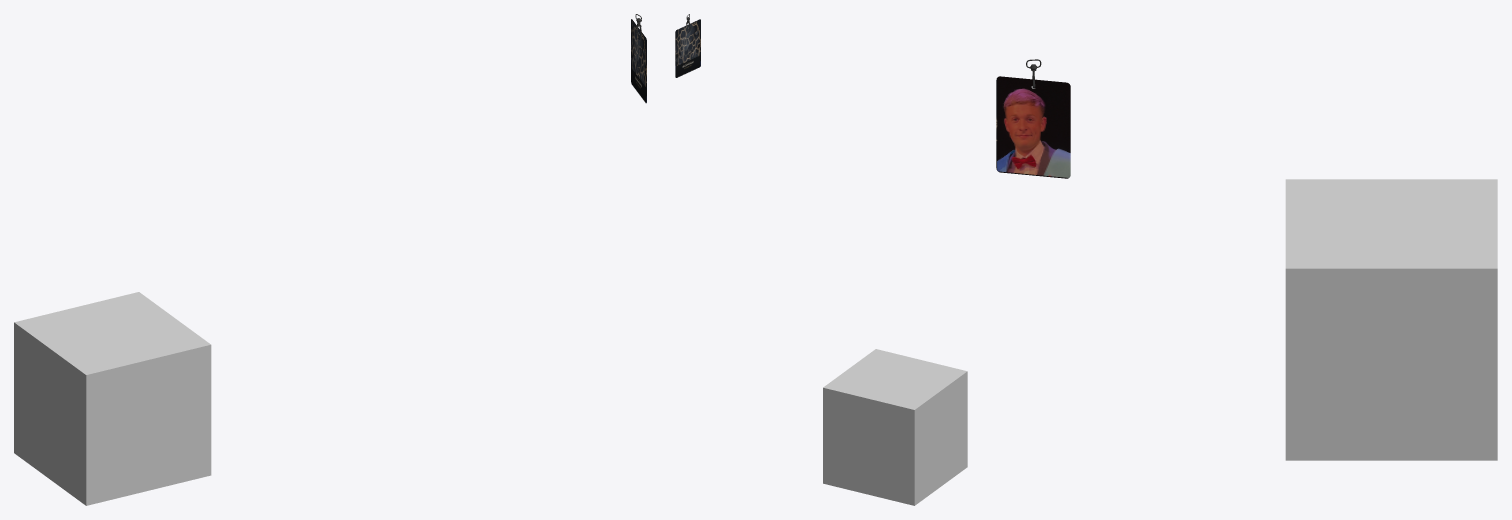
File: kartu.glb
3 renders of one model, left to right at view 1: azimuth 30°, elevation 25°; view 2: azimuth 150°, elevation 25°; view 3: azimuth 270°, elevation 25°, orthographic. The views are drawn at different scales.
Parts seen in each view (by area): view 1: Cube, card; view 2: Cube, card; view 3: Cube, card.
Part boxes in pixels (x1=…): Cube: x1=14, y1=292, x2=211, y2=505; card: x1=631, y1=19, x2=646, y2=103; Cube: x1=823, y1=349, x2=967, y2=505; card: x1=675, y1=19, x2=700, y2=77; Cube: x1=1285, y1=179, x2=1497, y2=460; card: x1=996, y1=76, x2=1070, y2=178.
Size of the model in its own units: 7.55 by 6.73 by 4.73.
Materials: 3 (1 with a texture image).
